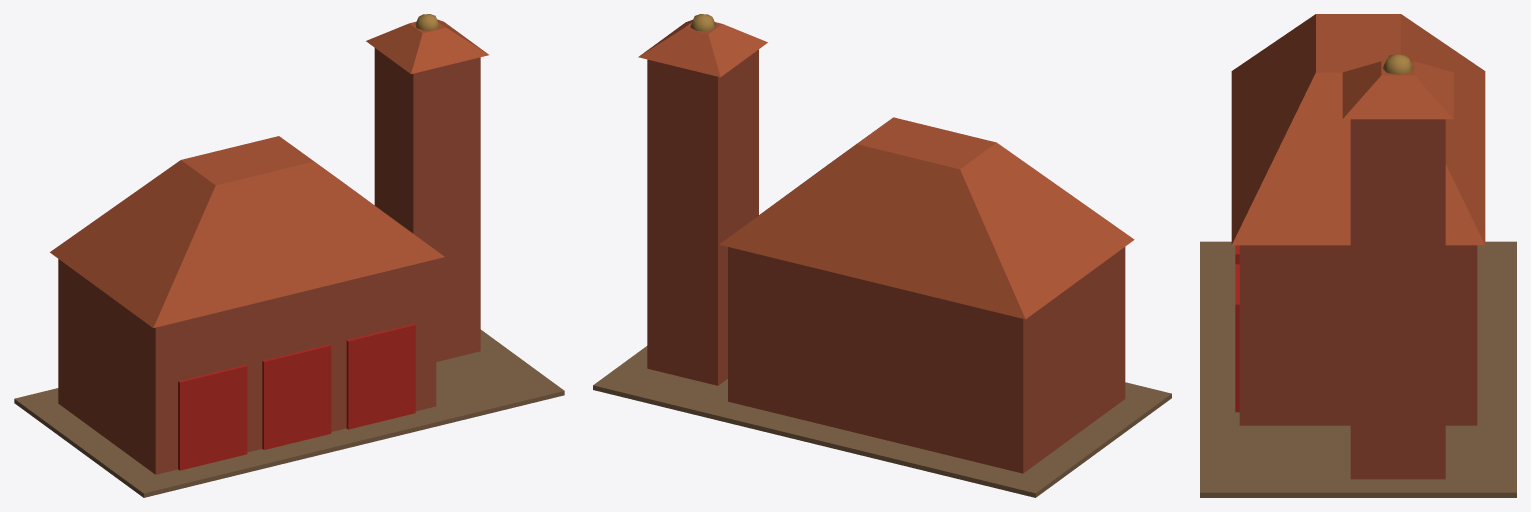
File: bld_special_fire_station_a04_lod1.glb
3 renders of one model, left to right at view 1: azimuth 30°, elevation 25°; view 2: azimuth 150°, elevation 25°; view 3: azimuth 270°, elevation 25°, orthographic. The views are drawn at different scales.
Visible parts, largest first — view 1: body; view 2: body; view 3: body.
Part boxes in pixels (left/top/right/bottom): body: left=14, top=14, right=564, bottom=497; body: left=593, top=14, right=1171, bottom=497; body: left=1200, top=14, right=1516, bottom=497.
Bounding box in the file's own units: 15 × 11.42 × 8.
